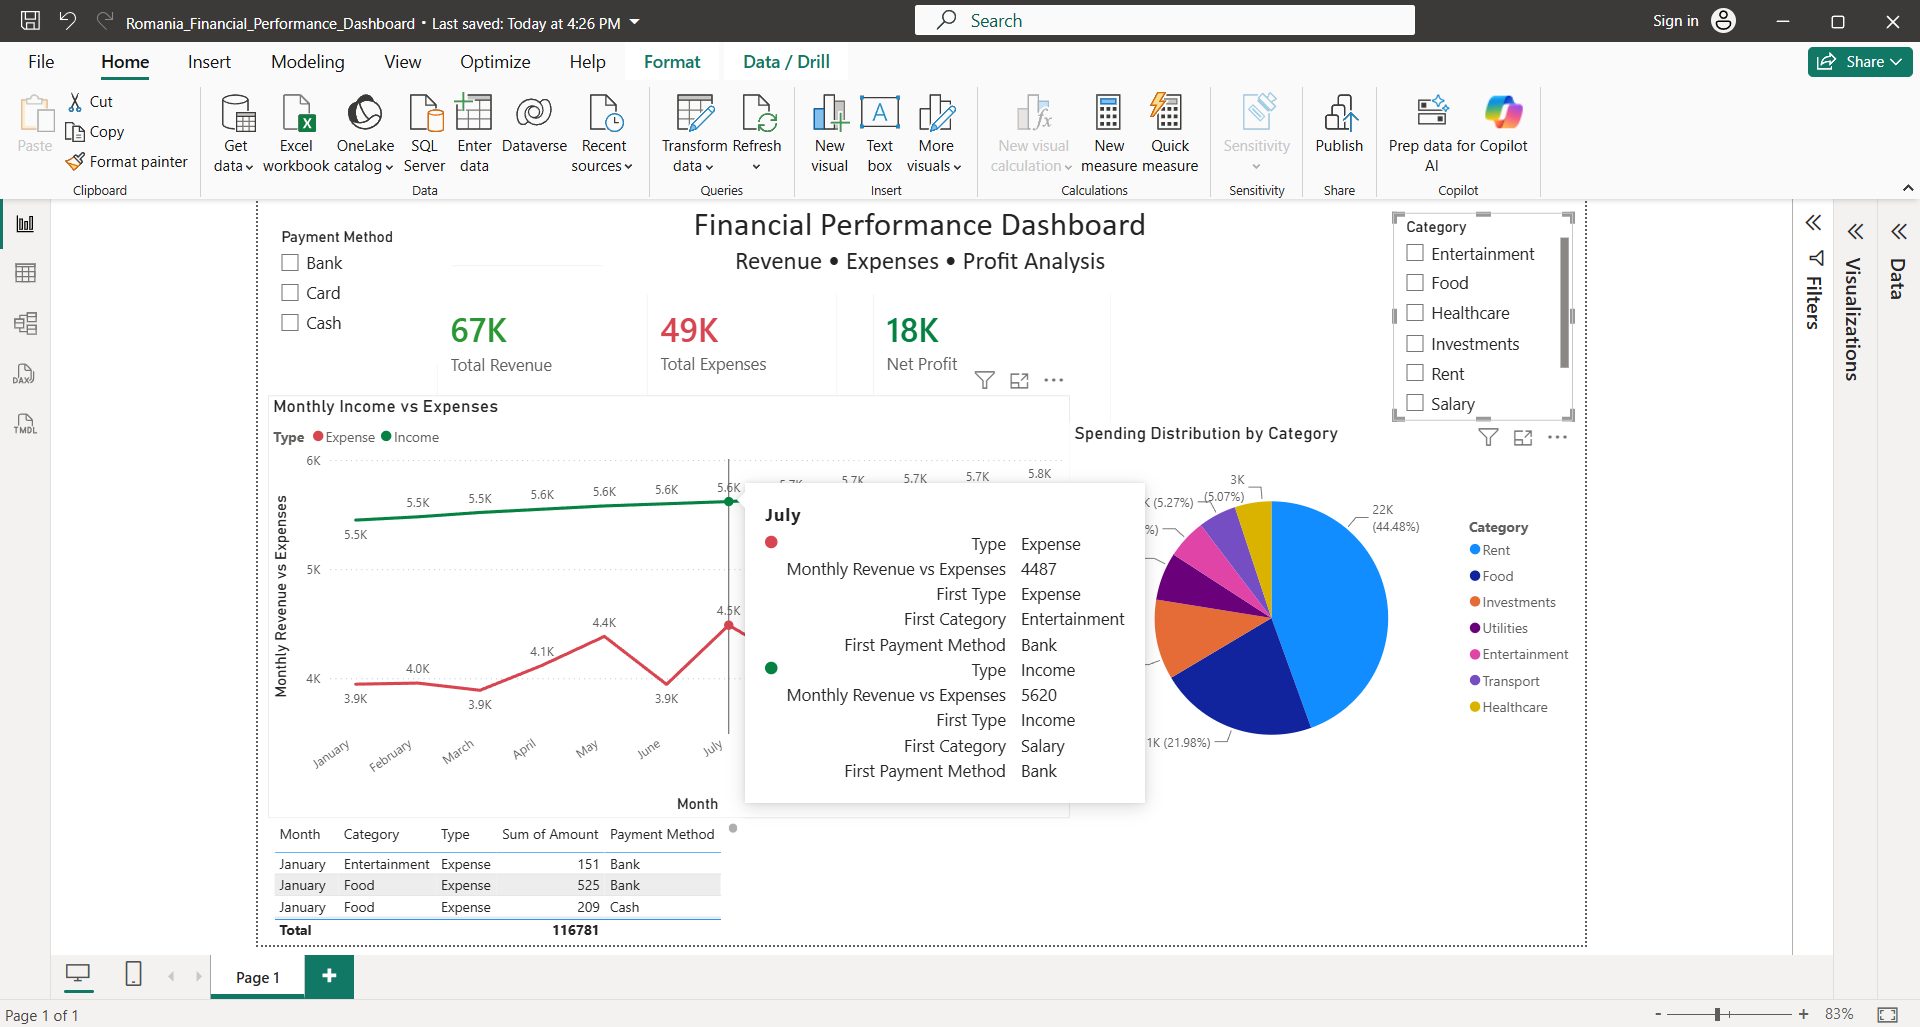

Layout of this report page (visuals, bound fields, positions):
{"tool":"powerbi","page":{"name":"Page 1","canvas":[1280,720],"ordinal":0},"visuals":[{"type":"cardVisual","fields":{"Data":["Transactions.Revenue"]},"box":[155.1,46.7,256.6,178.4],"z":0},{"type":"cardVisual","fields":{"Data":["Transactions.Expenses"]},"box":[358.1,30.2,218.2,211.3],"z":1000},{"type":"cardVisual","fields":{"Data":["Transactions.Net Profit"]},"box":[576.3,30.2,264.8,211.3],"z":2000},{"type":"lineChart","title":"Monthly Income vs Expenses","fields":{"Category":["Transactions.Date.Variation.Date Hierarchy.Month"],"Y":["Sum(Transactions.Amount)"],"Series":["Transactions.Type"]},"box":[9.6,189.4,773.9,407.5],"z":3000},{"type":"pieChart","title":"Spending Distribution by Category","fields":{"Category":["Transactions.Category"],"Y":["Sum(Transactions.Amount)"]},"box":[783.5,215.4,496.7,358.1],"z":4000},{"type":"textbox","box":[333.4,0,612,91.9],"z":5000},{"type":"slicer","fields":{"Values":["Transactions.Payment Method"]},"box":[9.6,23.3,177,137.2],"z":6000},{"type":"slicer","fields":{"Values":["Transactions.Category"]},"box":[1095,13.7,174.3,200.3],"z":6001},{"type":"tableEx","fields":{"Values":["Transactions.Date.Variation.Date Hierarchy.Month","Transactions.Category","Transactions.Type","Sum(Transactions.Amount)","Transactions.Payment Method"]},"box":[9.6,596.9,458.3,123.5],"z":6002}]}

Visuals, with their boxes on the page's 1280x720 design canvas (x1, y1, x2, y2). These are canvas units, not pixel positions in the 1920x1027 screenshot, which may show the page scaled, cropped or inside an application window:
cardVisual - Transactions.Revenue: 155, 47, 412, 225
cardVisual - Transactions.Expenses: 358, 30, 576, 242
cardVisual - Transactions.Net Profit: 576, 30, 841, 242
"Monthly Income vs Expenses" lineChart: 10, 189, 784, 597
"Spending Distribution by Category" pieChart: 784, 215, 1280, 574
textbox: 333, 0, 945, 92
slicer - Transactions.Payment Method: 10, 23, 187, 160
slicer - Transactions.Category: 1095, 14, 1269, 214
tableEx - Transactions.Date.Variation.Date Hierarchy.Month x Transactions.Category: 10, 597, 468, 720
